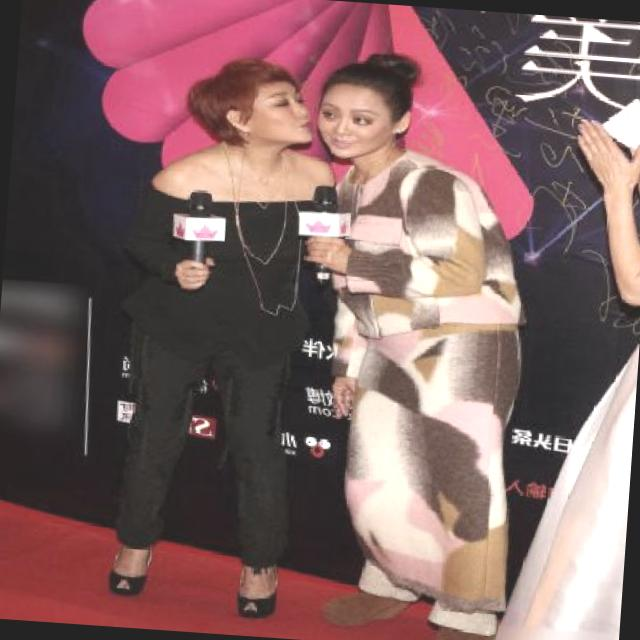Person: (281, 33, 517, 616), (114, 42, 316, 603)
